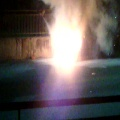fire: (50, 18, 81, 73)
